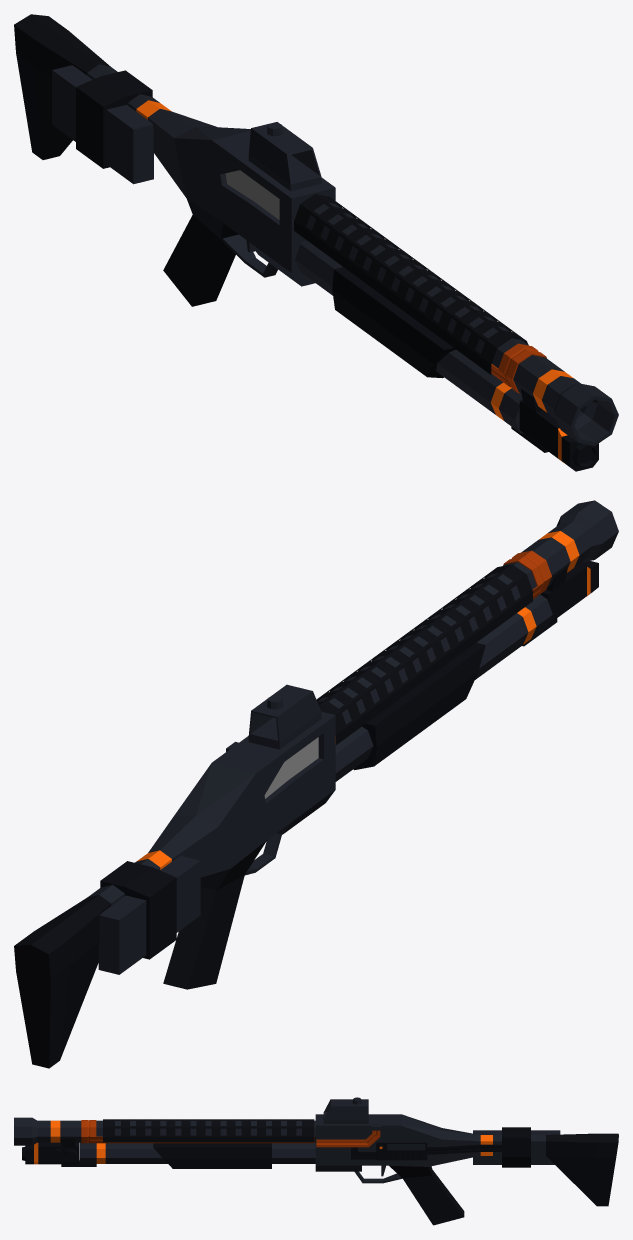
3 renders of one model, top to bottom at view 1: azimuth 30°, elevation 25°; view 2: azimuth 150°, elevation 25°; view 3: azimuth 270°, elevation 25°, orthographic. The views are drawn at different scales.
Visible parts, largest first — view 1: M471A3; view 2: M471A3; view 3: M471A3.
Part boxes in pixels (bbox=[...]): M471A3: bbox=[14, 14, 618, 471]; M471A3: bbox=[14, 500, 618, 1068]; M471A3: bbox=[14, 1097, 618, 1225].
Size of the model in its own units: 5.81 by 20.2 by 89.87.
